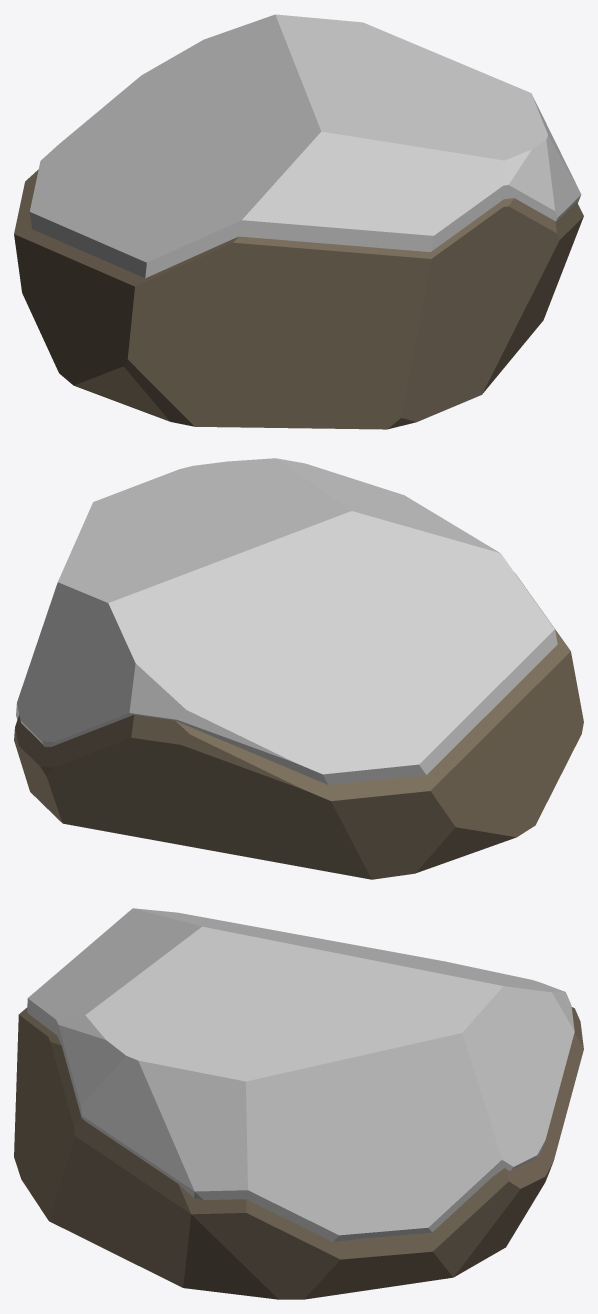
Rendered from Stone_4_snow_brown_vc.fbx.
3 views of the same model, one above another, from view 1: azimuth 30°, elevation 25°; view 2: azimuth 150°, elevation 25°; view 3: azimuth 270°, elevation 25° (orthographic). The views are drawn at different scales.
Parts seen in each view (by area): view 1: Stone_4_snow_brown_vc; view 2: Stone_4_snow_brown_vc; view 3: Stone_4_snow_brown_vc.
Boxes of the visible parts, <box> form: Stone_4_snow_brown_vc: <box>14,14,583,429</box>; Stone_4_snow_brown_vc: <box>14,458,583,879</box>; Stone_4_snow_brown_vc: <box>14,908,583,1299</box>.
Size of the model in its own units: 91.18 by 43.44 by 89.55.
